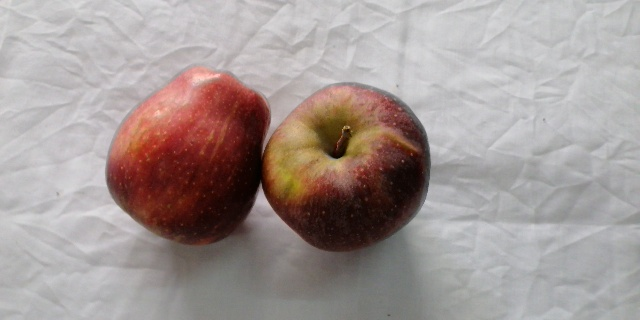apple_kashmir: (107, 59, 270, 251), (260, 84, 443, 255)
